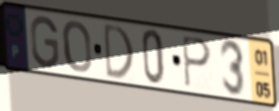0: (141, 29, 168, 88)
3: (218, 36, 247, 102)
D: (102, 20, 135, 81)
G: (29, 14, 61, 71)
O: (61, 19, 94, 75)
P: (180, 34, 214, 90)
